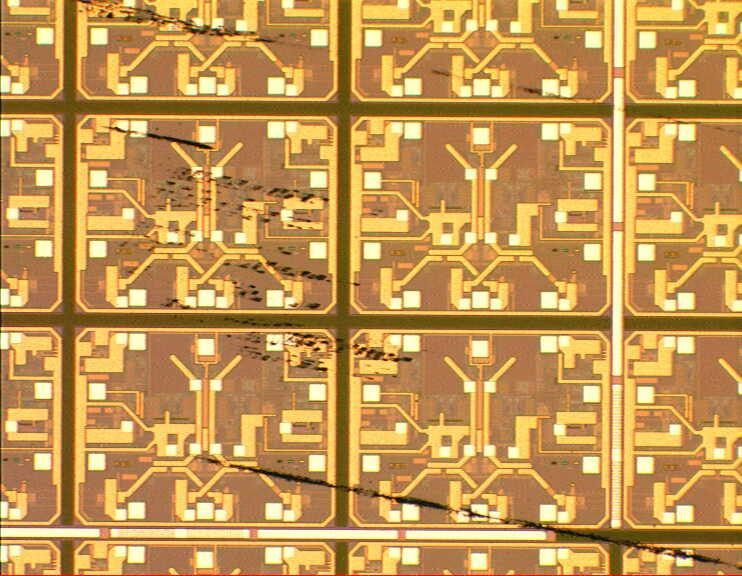SCRATCH: (49, 1, 742, 576)
